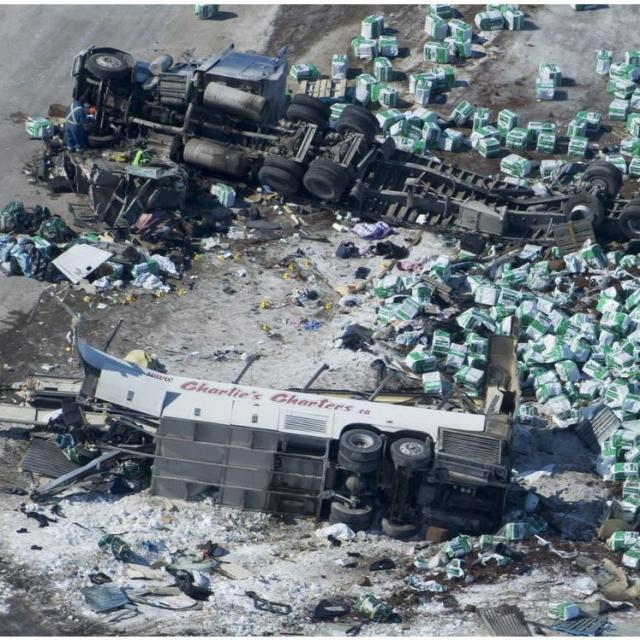traffic_incident: (66, 28, 606, 266), (63, 351, 520, 547)
